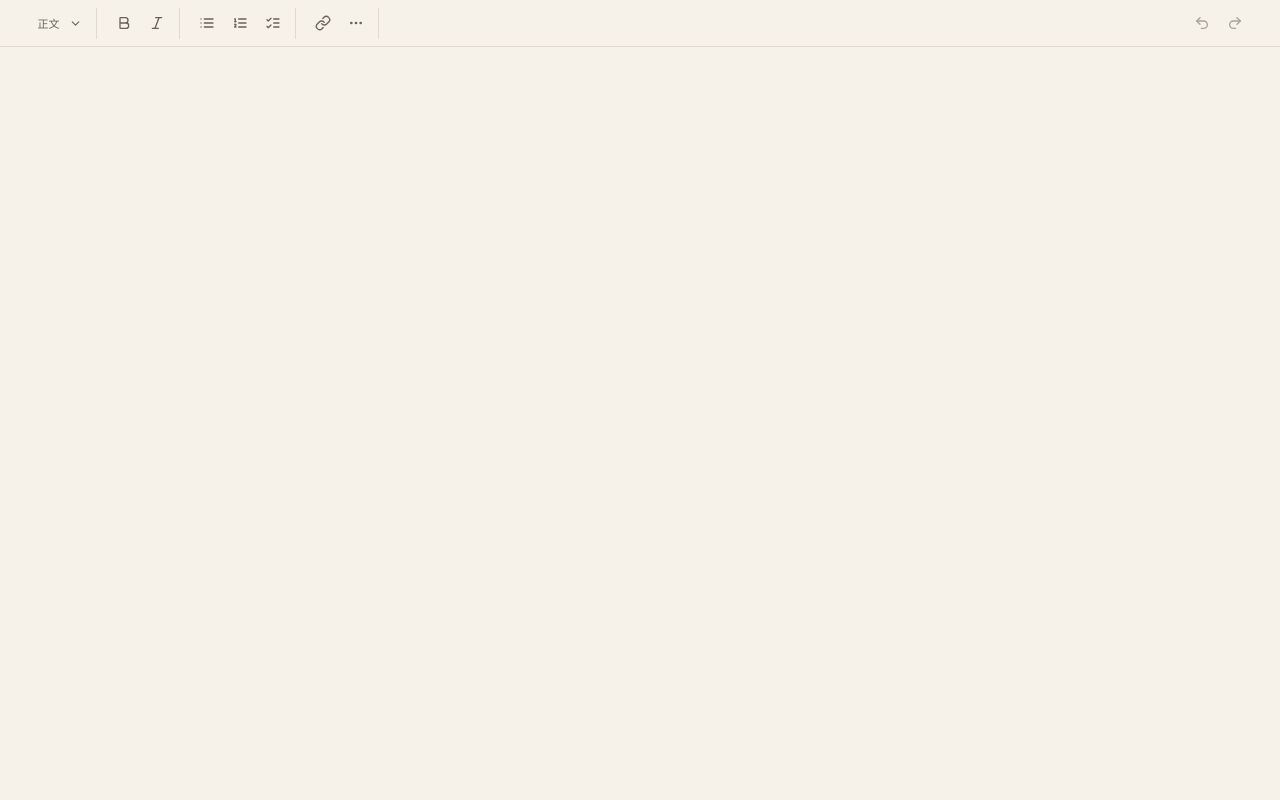
Test: EditorToolbar 链接弹窗 › 使用应用内弹窗并在无选区时插入可见链接
The image size is (1280, 800).
Click the button named "链接": (322, 23) [307,8,338,38]
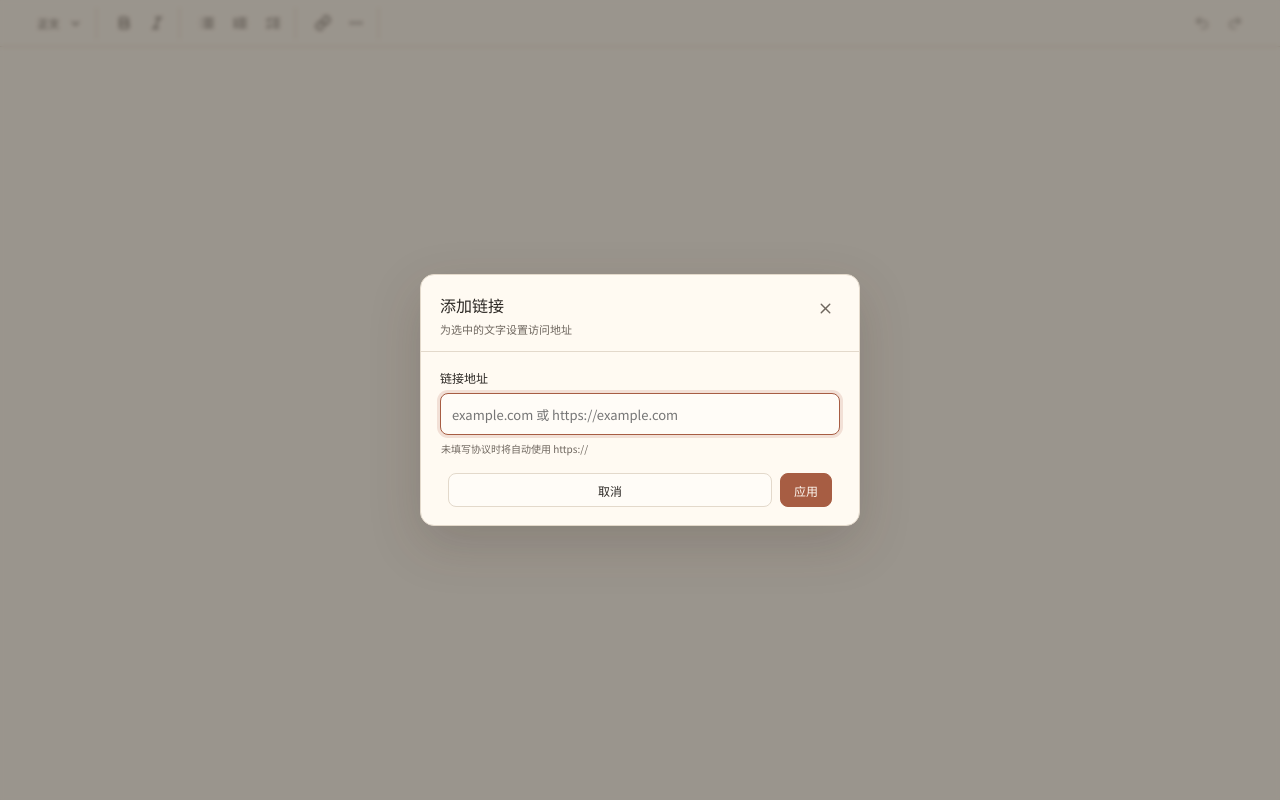
Expected: the dialog "添加链接" is shown, [420,274,860,526]
In the field labelled "链接地址": (640, 414) [440,393,840,435], type "example.com"
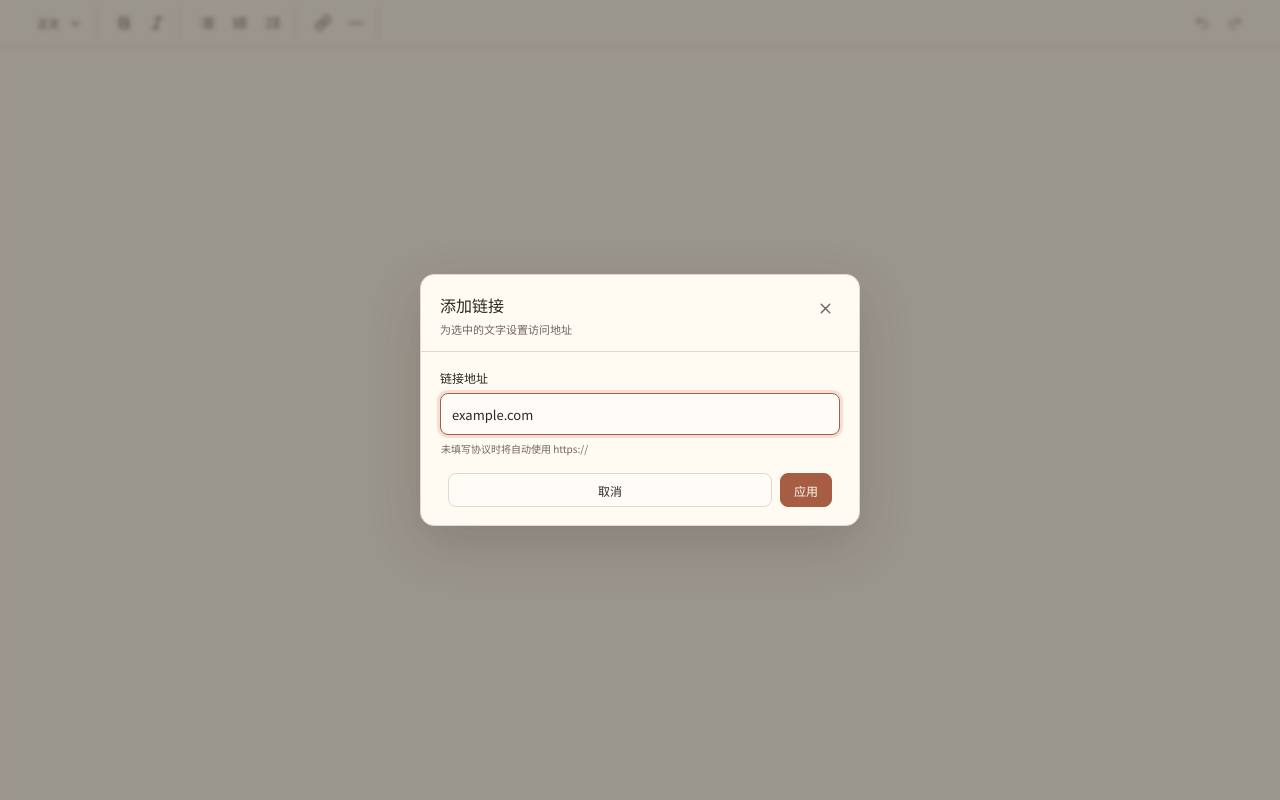
Click the button "应用": (806, 490) [780,473,832,507]
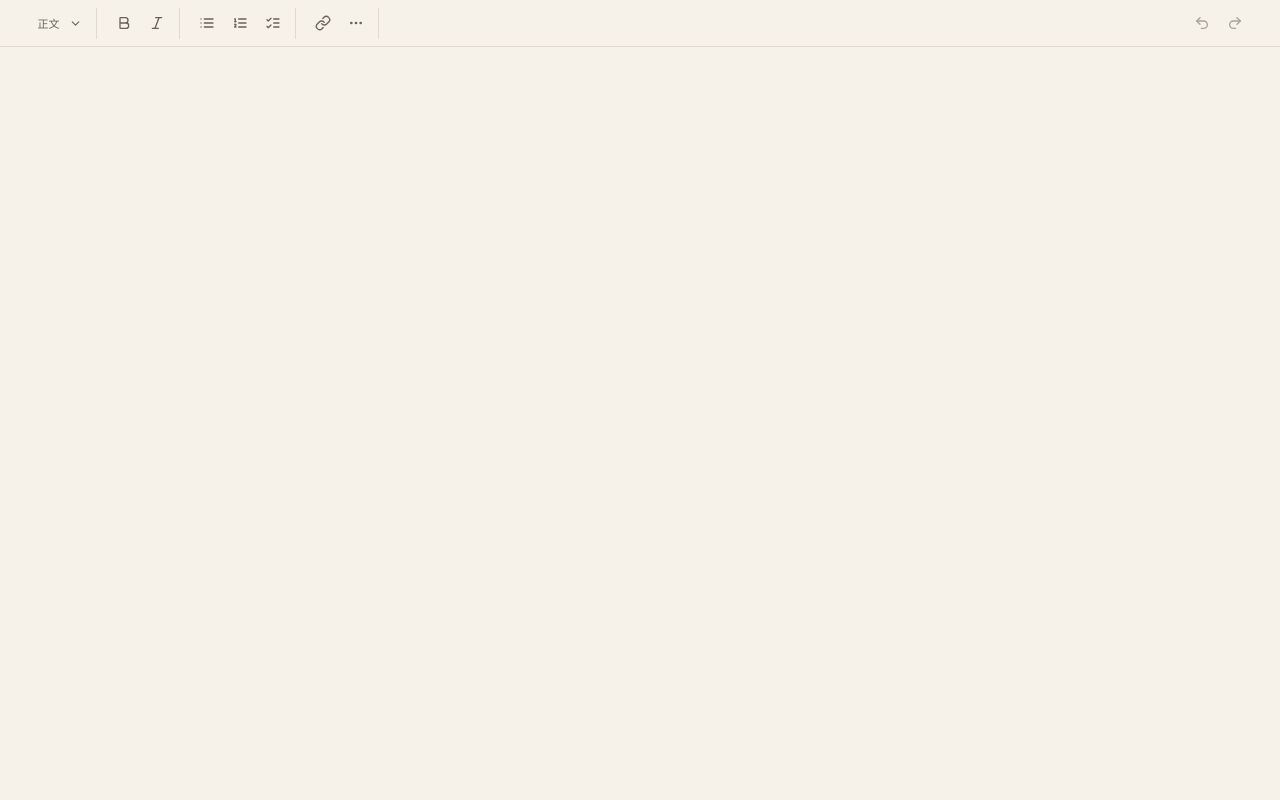
Expected: the dialog is gone
